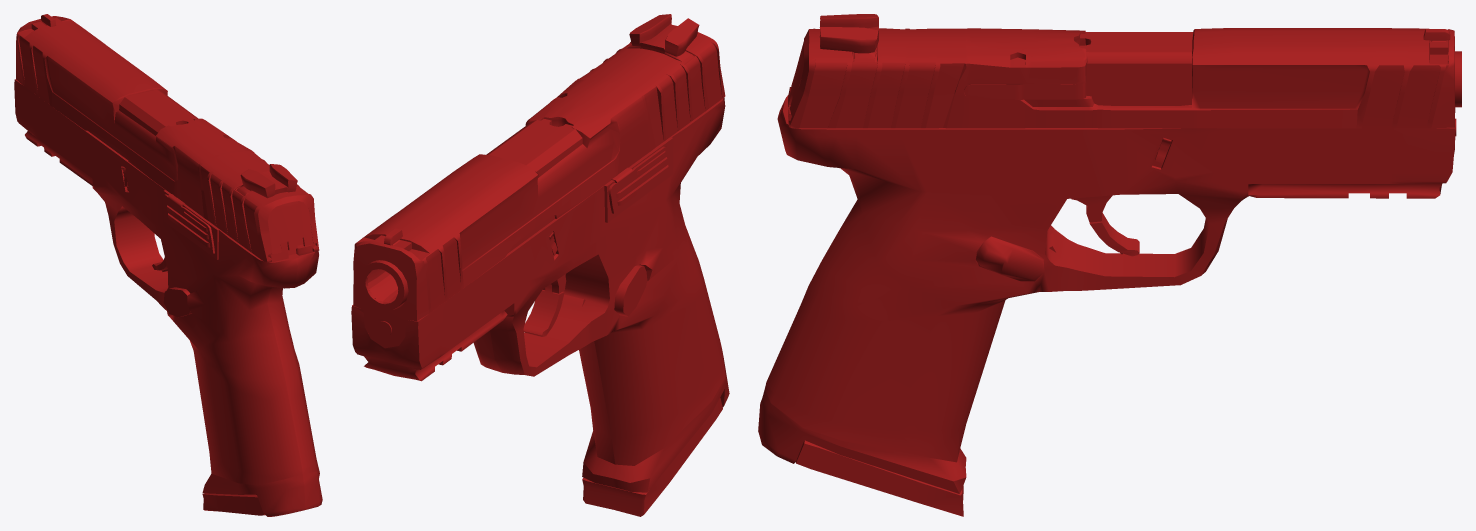
The picture shows the model from 3 angles, left to right: view 1: azimuth 30°, elevation 25°; view 2: azimuth 150°, elevation 25°; view 3: azimuth 270°, elevation 25°; orthographic projection. The views are drawn at different scales.
Parts seen in each view (by area): view 1: GunBottom_LowPoly, GunTop_LowPoly, Chamber_LowPoly, BackPart_LowPoly, SightBack_LowPoly, LeftSideThing_LowPoly, Magazine_LowPoly; view 2: GunBottom_LowPoly, GunTop_LowPoly, Chamber_LowPoly, Magazine_LowPoly, SightBack_LowPoly, LeftSideThing_LowPoly, Trigger02_LowPoly, Nozzle_LowPoly, Barrel_LowPoly; view 3: GunBottom_LowPoly, GunTop_LowPoly, Chamber_LowPoly, Magazine_LowPoly, SightBack_LowPoly, SideBar_LowPoly, Trigger02_LowPoly.
Part boxes in pixels (x1,y1,x2,y2): GunBottom_LowPoly: (14, 79, 322, 516); GunTop_LowPoly: (16, 16, 319, 263); Chamber_LowPoly: (119, 89, 198, 135); BackPart_LowPoly: (268, 201, 313, 253); SightBack_LowPoly: (236, 164, 297, 198); LeftSideThing_LowPoly: (162, 194, 214, 253); Magazine_LowPoly: (202, 493, 265, 515); GunBottom_LowPoly: (351, 97, 729, 492); GunTop_LowPoly: (353, 32, 725, 348); Chamber_LowPoly: (486, 119, 582, 177); Magazine_LowPoly: (582, 398, 722, 516); SightBack_LowPoly: (627, 14, 699, 63); LeftSideThing_LowPoly: (608, 146, 672, 213); Trigger02_LowPoly: (523, 284, 564, 336); Nozzle_LowPoly: (359, 260, 408, 310); Barrel_LowPoly: (367, 269, 398, 302); GunBottom_LowPoly: (758, 83, 1455, 493); GunTop_LowPoly: (788, 28, 1456, 135); Chamber_LowPoly: (1080, 32, 1193, 105); Magazine_LowPoly: (795, 440, 963, 516); SightBack_LowPoly: (819, 14, 878, 62); SideBar_LowPoly: (964, 81, 1086, 100); Trigger02_LowPoly: (1089, 212, 1139, 256).
Size of the model in its own units: 0.4768 by 2.25 by 2.98.
